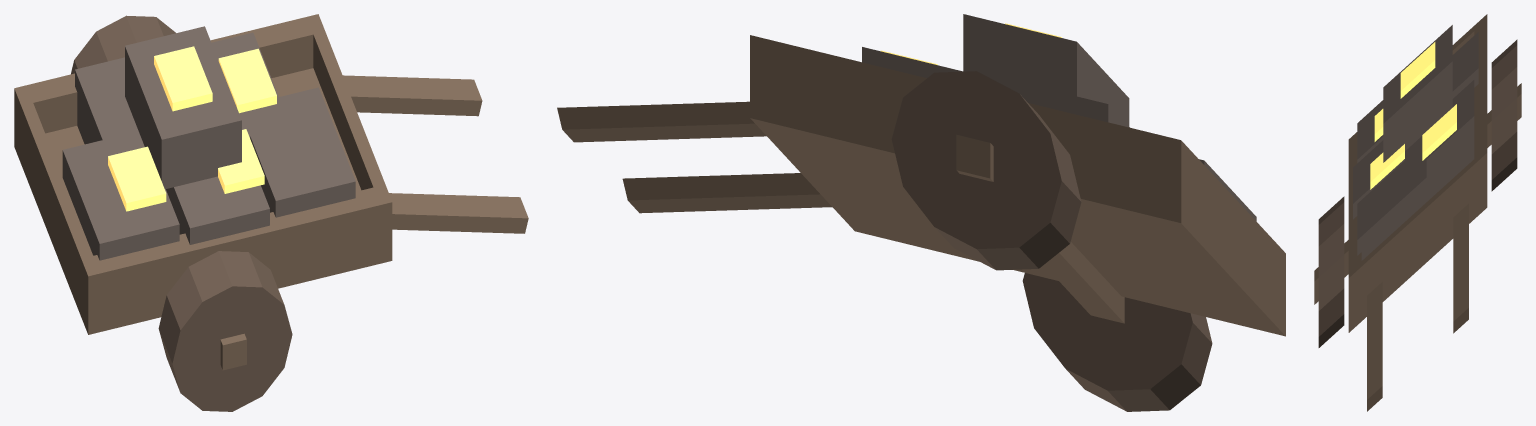
The model's file is cart_fire.glb.
3 views of the same model, side by side, from view 1: azimuth 30°, elevation 25°; view 2: azimuth 150°, elevation 25°; view 3: azimuth 270°, elevation 25° (orthographic). The views are drawn at different scales.
Visible parts, largest first — view 1: cart_fire; view 2: cart_fire; view 3: cart_fire.
Part boxes in pixels (bbox=[...]): cart_fire: bbox=[14, 14, 528, 411]; cart_fire: bbox=[557, 14, 1285, 411]; cart_fire: bbox=[1314, 14, 1521, 411].
Size of the model in its own units: 112 by 77 by 48.
